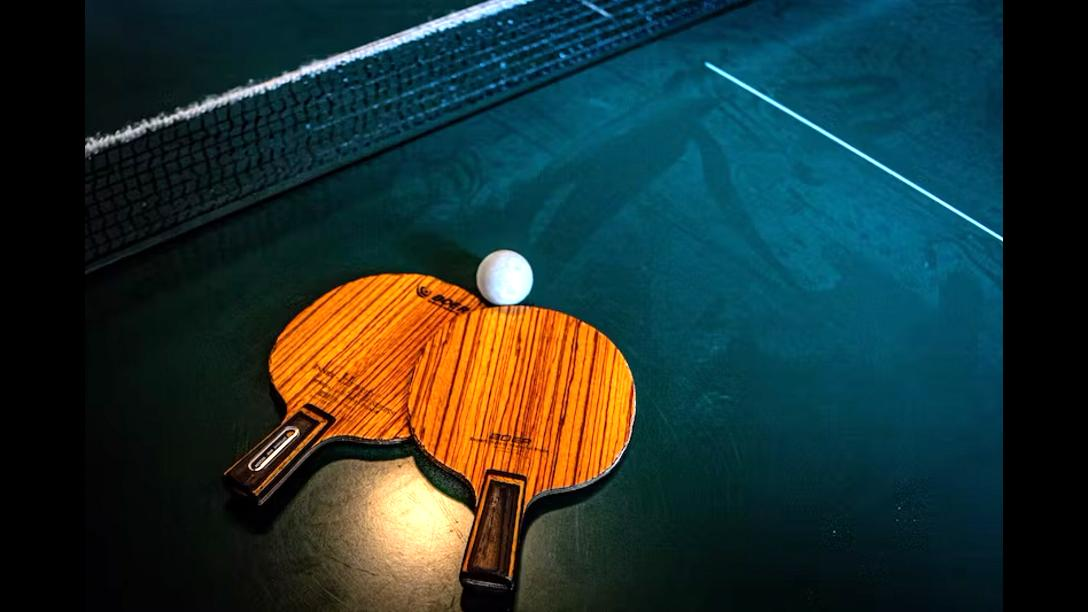Table-Tennis-Ball: (478, 250, 534, 302)
